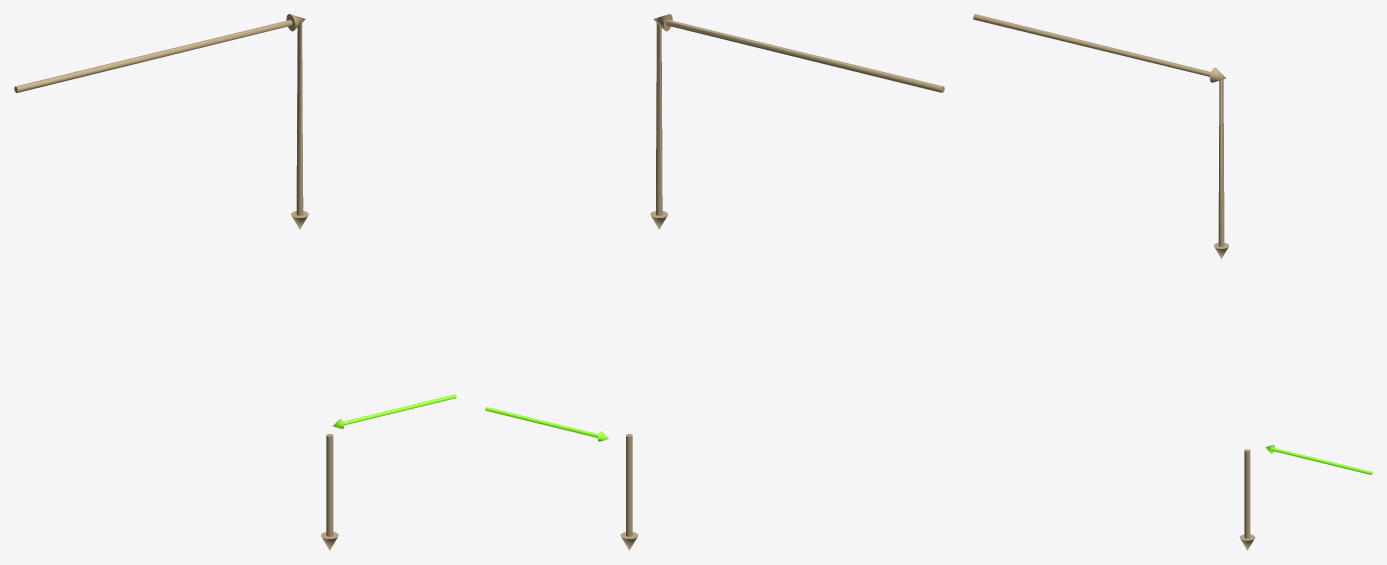
File: alumina_storage_silo_flow.glb
The picture shows the model from 3 angles, left to right: view 1: azimuth 30°, elevation 25°; view 2: azimuth 150°, elevation 25°; view 3: azimuth 330°, elevation 25°; orthographic projection. The views are drawn at different scales.
Visible parts, largest first — view 1: fill, discharge, aeration_air; view 2: fill, discharge, aeration_air; view 3: fill, discharge, aeration_air.
Part boxes in pixels (x1,y1,x2,y2): fill: (14,14,308,229); discharge: (321,434,338,550); aeration_air: (333,394,456,429); fill: (650,14,944,229); discharge: (620,434,638,550); aeration_air: (485,407,608,441); fill: (973,14,1229,258); discharge: (1239,449,1255,550); aeration_air: (1265,444,1372,474).
Bounding box in the file's own units: 3 × 3.49 × 0.1832.
